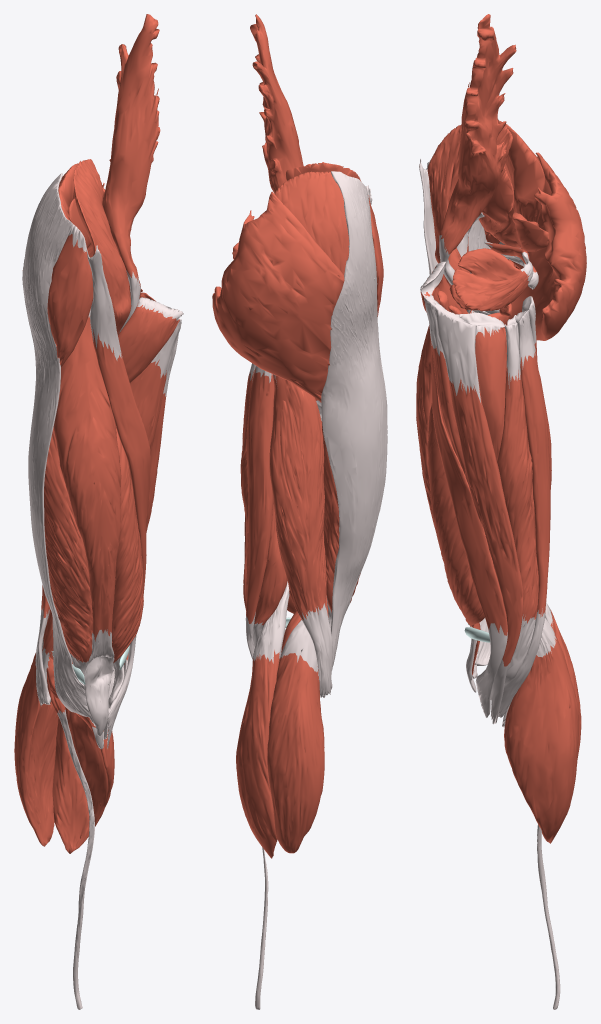
Rendered from muscles.glb.
3 renders of one model, left to right at view 1: azimuth 30°, elevation 25°; view 2: azimuth 150°, elevation 25°; view 3: azimuth 270°, elevation 25°, orthographic. The views are drawn at different scales.
Parts seen in each view (by area): view 1: Rectus femoris muscle.r, Iliotibial tract.r, Psoas major.r, Sartorius muscle.r, Vastus lateralis muscle.r, Medial head of gastrocnemius.r, Lateral head of gastrocnemius.r, Vastus medialis muscle.r, Tensor fasciae latae.r, Iliacus muscle.r, Pectineus muscle.r, Adductor longus.r (+6 smaller); view 2: Iliotibial tract.r, Gluteus maximus muscle.r, Long head of biceps femoris.r, Lateral head of gastrocnemius.r, Medial head of gastrocnemius.r, Semitendinosus muscle.r, Gluteus medius muscle.r, Psoas major.r, Semimembranosus muscle.r, Vastus lateralis muscle.r, Plantaris muscle.r, Tensor fasciae latae.r (+1 smaller); view 3: Medial head of gastrocnemius.r, Gracilis muscle.r, Psoas major.r, Semimembranosus muscle.r, Sartorius muscle.r, Gluteus maximus muscle.r, Semitendinosus muscle.r, Vastus medialis muscle.r, Obturator internus.r, Adductor magnus.r, Iliacus muscle.r, Rectus femoris muscle.r (+10 smaller).
Part boxes in pixels (x1,y1,x2,y2): Rectus femoris muscle.r: (53,308,121,736); Iliotibial tract.r: (22,173,90,717); Psoas major.r: (102,14,160,332); Sartorius muscle.r: (86,245,150,747); Vastus lateralis muscle.r: (44,427,93,723); Medial head of gastrocnemius.r: (52,661,114,853); Lateral head of gastrocnemius.r: (14,653,58,846); Vastus medialis muscle.r: (112,426,143,662); Tensor fasciae latae.r: (47,224,93,367); Iliacus muscle.r: (73,159,131,334); Pectineus muscle.r: (118,297,183,382); Adductor longus.r: (130,319,181,477); Iliotibial tract.r: (321,171,387,669); Gluteus maximus muscle.r: (212,191,344,402); Long head of biceps femoris.r: (269,374,332,697); Lateral head of gastrocnemius.r: (267,620,324,853); Medial head of gastrocnemius.r: (236,581,289,858); Semitendinosus muscle.r: (245,366,274,659); Gluteus medius muscle.r: (274,171,349,274); Psoas major.r: (250,14,303,193); Semimembranosus muscle.r: (240,363,287,647); Vastus lateralis muscle.r: (321,421,360,629); Plantaris muscle.r: (255,610,301,1009); Tensor fasciae latae.r: (366,185,383,316); Medial head of gastrocnemius.r: (504,617,578,843); Gracilis muscle.r: (434,300,523,724); Psoas major.r: (439,14,516,313); Semimembranosus muscle.r: (497,315,538,686); Sartorius muscle.r: (419,159,507,717); Gluteus maximus muscle.r: (506,152,586,340); Semitendinosus muscle.r: (498,310,550,717); Vastus medialis muscle.r: (427,310,484,675); Obturator internus.r: (452,248,533,311); Adductor magnus.r: (459,312,509,484); Iliacus muscle.r: (427,120,512,314); Rectus femoris muscle.r: (416,212,484,692).
Size of the model in its own units: 0.1598 by 1.13 by 0.1722.
